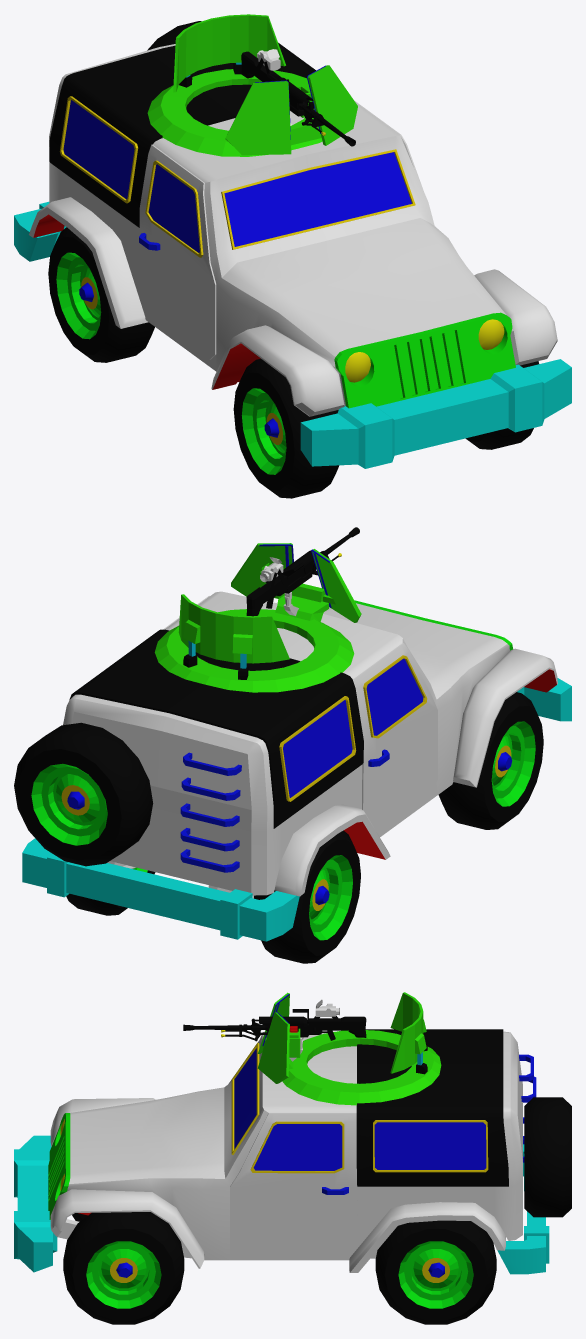
Rendered from birinci_prototip.FBX.
The picture shows the model from 3 angles, top to bottom: view 1: azimuth 30°, elevation 25°; view 2: azimuth 150°, elevation 25°; view 3: azimuth 270°, elevation 25°; orthographic projection. The views are drawn at different scales.
Parts seen in each view (by area): view 1: gövde kaplandı006, atlas3; view 2: gövde kaplandı006, atlas3; view 3: gövde kaplandı006, atlas3.
Boxes of the visible parts, x1,y1,x2,y2 form: gövde kaplandı006: [14, 14, 571, 468]; atlas3: [48, 227, 538, 498]; gövde kaplandı006: [14, 527, 571, 941]; atlas3: [66, 692, 543, 963]; gövde kaplandı006: [14, 992, 571, 1274]; atlas3: [63, 1212, 496, 1324].
Size of the model in its own units: 74.39 by 87.53 by 160.
